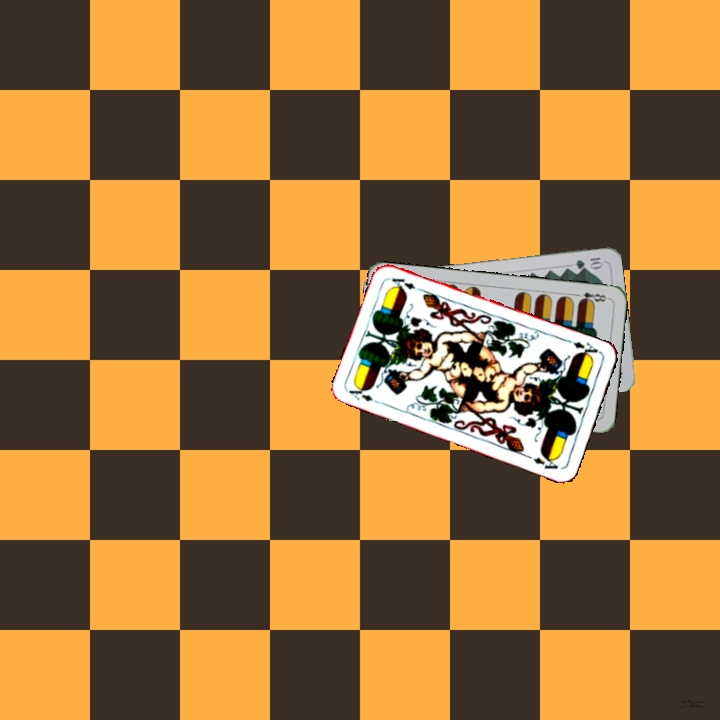E8: (570, 288, 611, 306)
EA: (345, 381, 384, 407), (569, 337, 604, 362)
G10: (571, 253, 605, 271)
